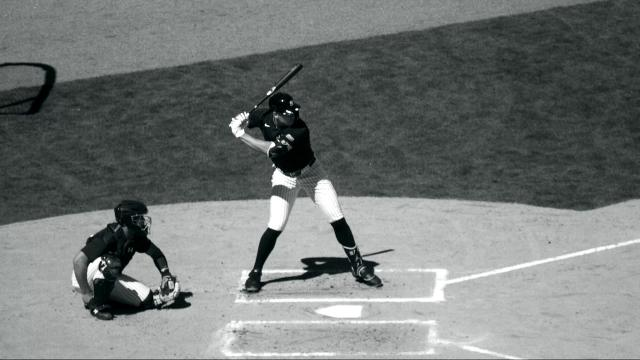baseball bat: (248, 64, 304, 114)
